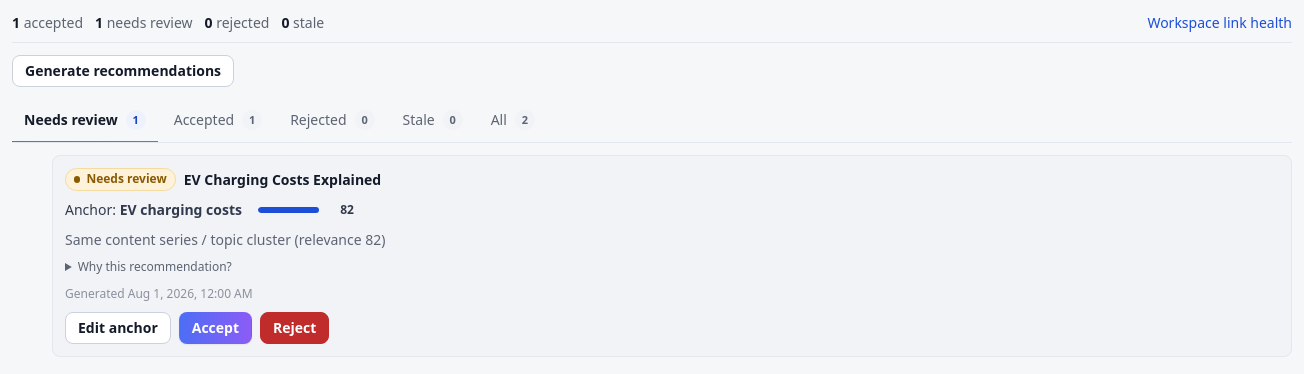
InternalLinkRecommendations › filters by status and shows a per-filter empty message
Expected: the text "EV Charging Costs Explained" is shown, x1=184 y1=169 x2=381 y2=190
Expected: the text "Battery Swap Stations" is not shown
Click the tab "Rejected 0": (332, 121) x1=278 y1=99 x2=386 y2=143
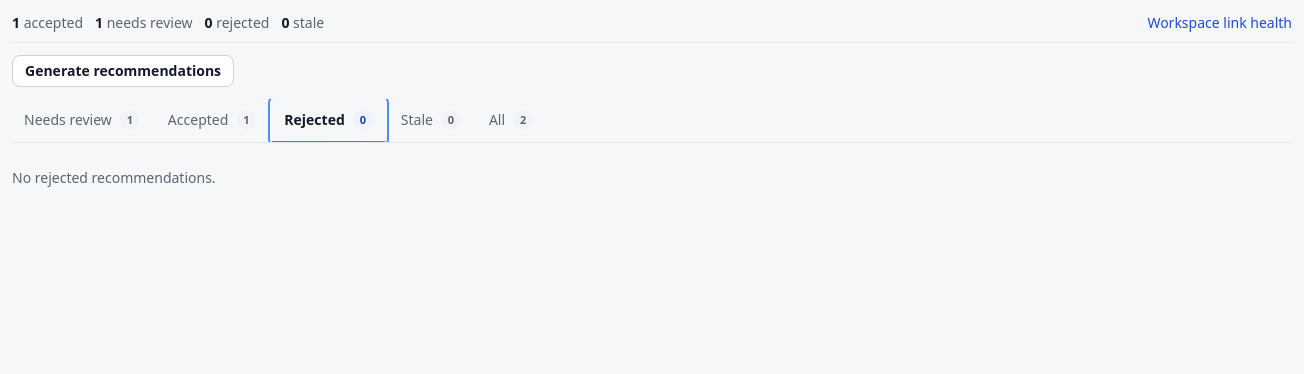
Result: the text "No rejected recommendations." is shown at x1=12 y1=168 x2=216 y2=187
Click the tab "Accepted 1": (212, 121) x1=156 y1=99 x2=268 y2=143
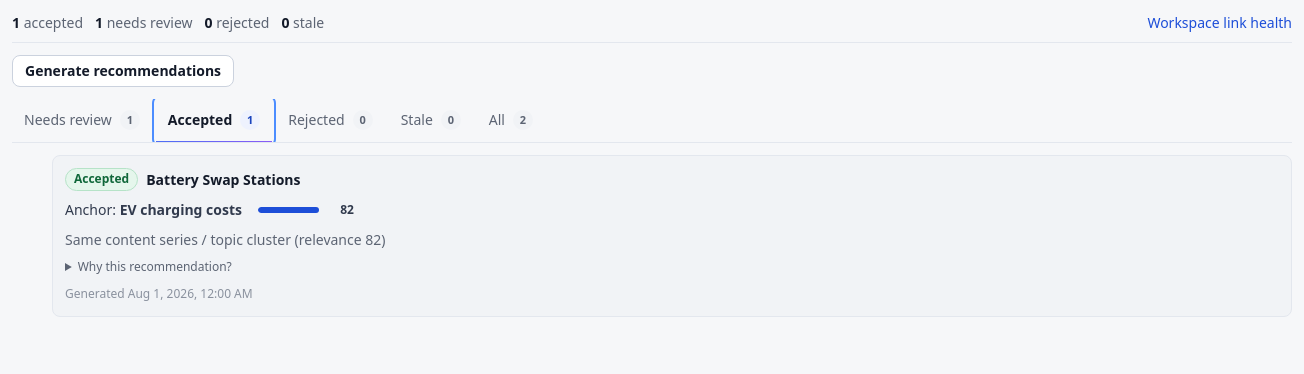
Result: the text "Battery Swap Stations" is shown at x1=146 y1=169 x2=300 y2=190
